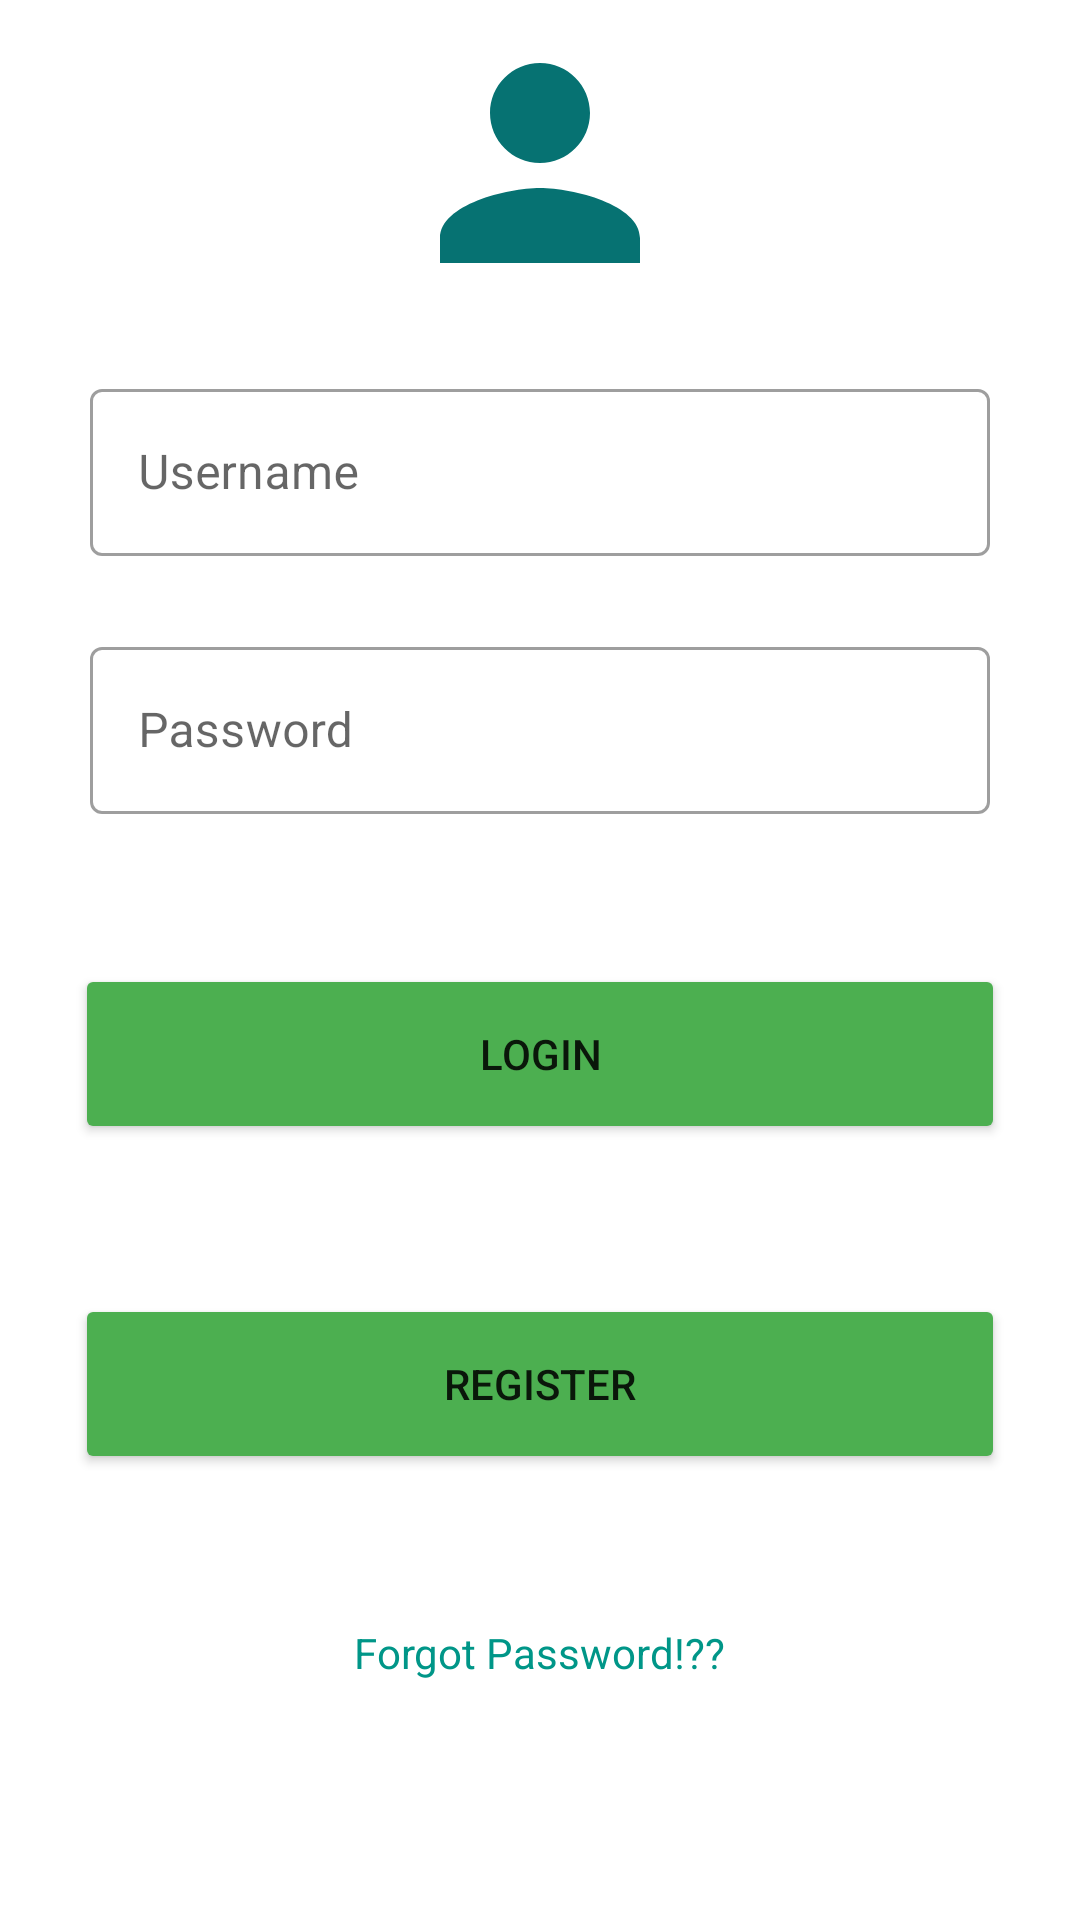

Screen size 1080*1920. Icon name, then its box in pixels as box(x1, y1, x2, y2):
person: box(440, 63, 640, 263)
